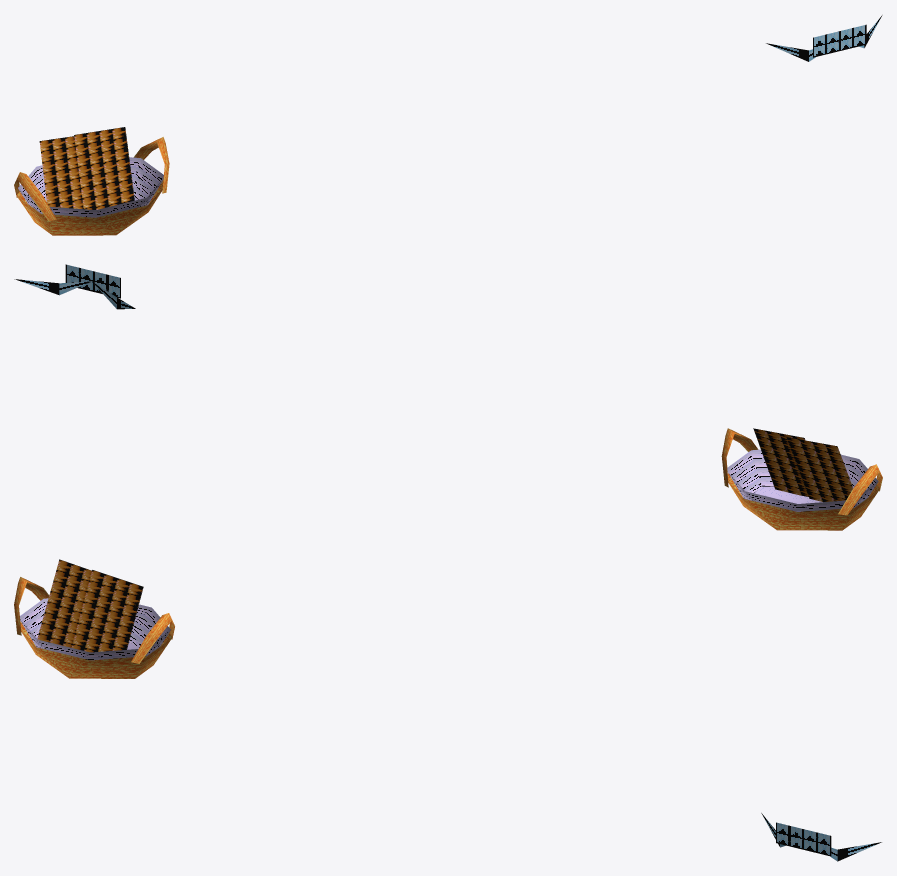
The model's file is 5645ucc_m_cook4.gltf.
3 views of the same model, one above another, from view 1: azimuth 30°, elevation 25°; view 2: azimuth 150°, elevation 25°; view 3: azimuth 330°, elevation 25° (orthographic). The views are drawn at different scales.
Visible parts, largest first — view 1: 5645ucc_m_cook4; view 2: 5645ucc_m_cook4; view 3: 5645ucc_m_cook4.
Part boxes in pixels (box(x1,y1,x2,y2)): 5645ucc_m_cook4: box(14, 15, 882, 235); 5645ucc_m_cook4: box(14, 264, 882, 530); 5645ucc_m_cook4: box(14, 559, 881, 861).
Bounding box in the file's own units: 4.75 × 0.4353 × 0.5972.
6 materials, 6 textured.
